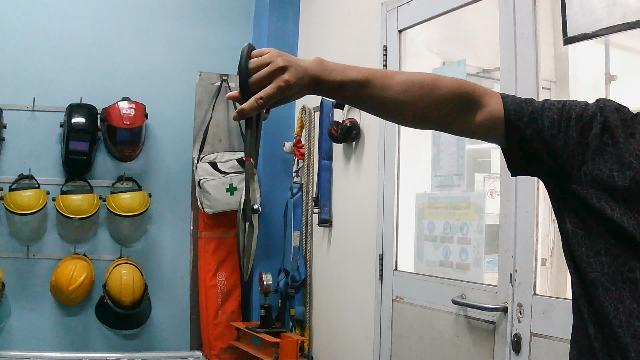gunting_plat: (229, 40, 275, 284)
